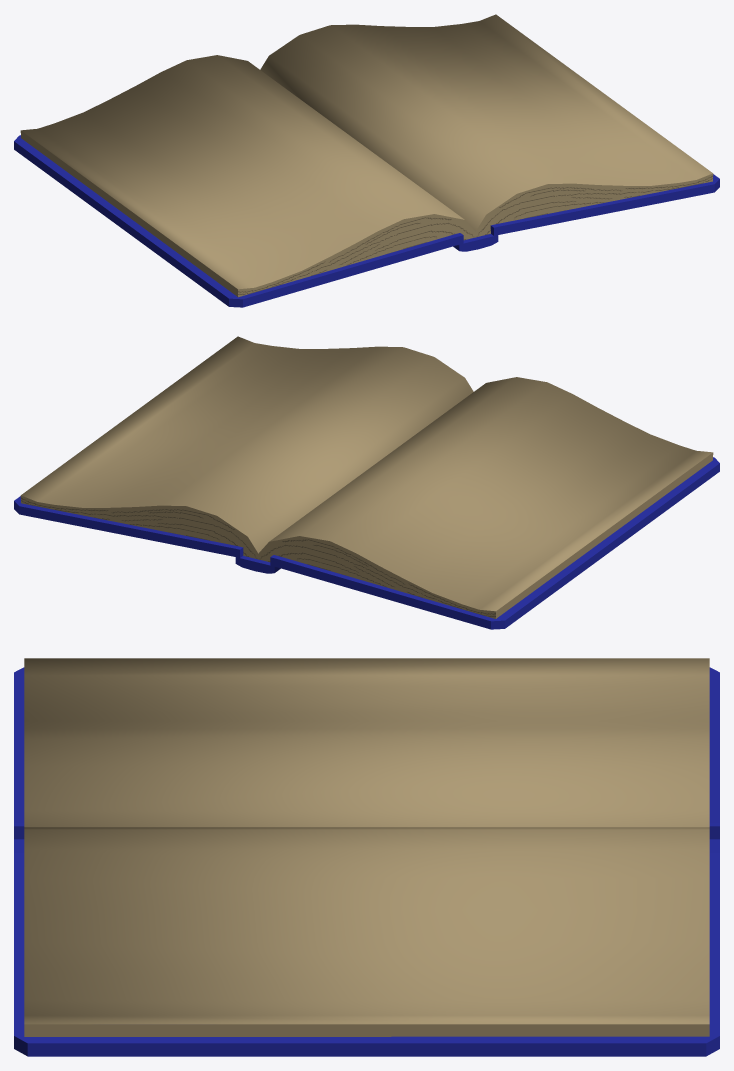
The model's file is Book - Open.fbx.
3 renders of one model, top to bottom at view 1: azimuth 30°, elevation 25°; view 2: azimuth 150°, elevation 25°; view 3: azimuth 270°, elevation 25°, orthographic. The views are drawn at different scales.
Parts seen in each view (by area): view 1: Book - Open; view 2: Book - Open; view 3: Book - Open.
Part boxes in pixels (x1,y1,x2,y2): Book - Open: [14, 14, 719, 307]; Book - Open: [14, 336, 719, 629]; Book - Open: [14, 658, 719, 1056].
Size of the model in its own units: 0.7124 by 0.064 by 0.5622.
